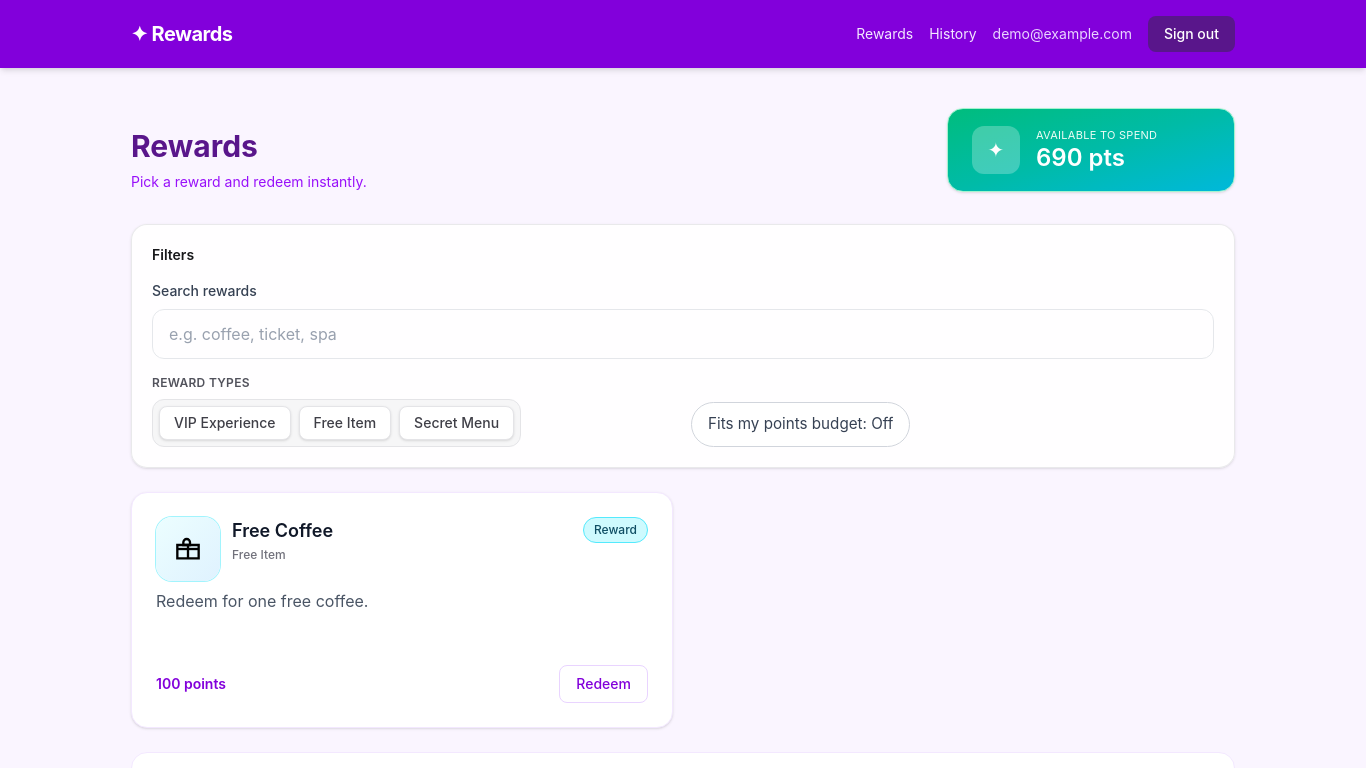
Test: RewardsPage › shows a confirmation modal and redeems after confirm
Expected: the heading "Free Coffee" is shown, top-left (232, 517), bottom-right (333, 545)
Click the button "Redeem": (604, 684) top-left (559, 665), bottom-right (648, 703)
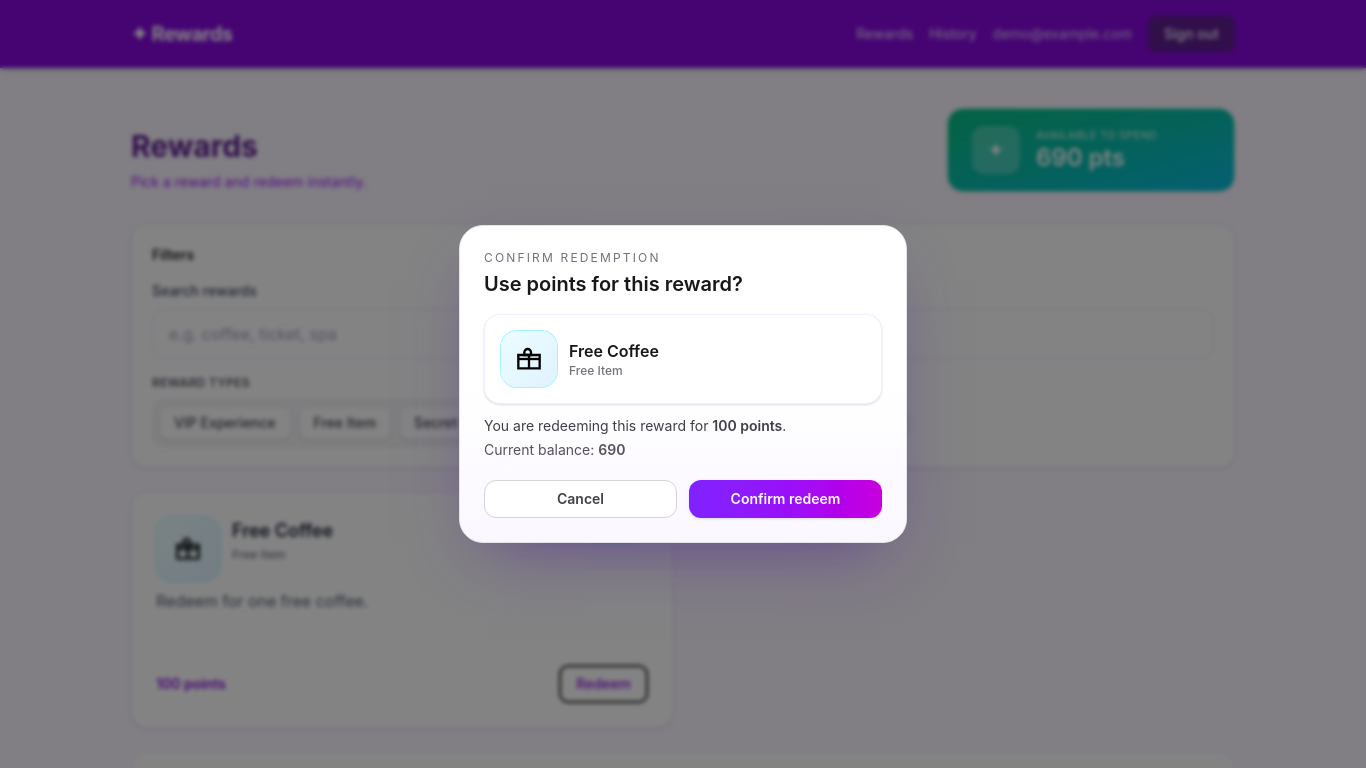
Result: the heading "Use points for this reward?" is shown at top-left (484, 272), bottom-right (743, 296)
Click the button "Confirm redeem": (786, 499) top-left (689, 480), bottom-right (882, 518)
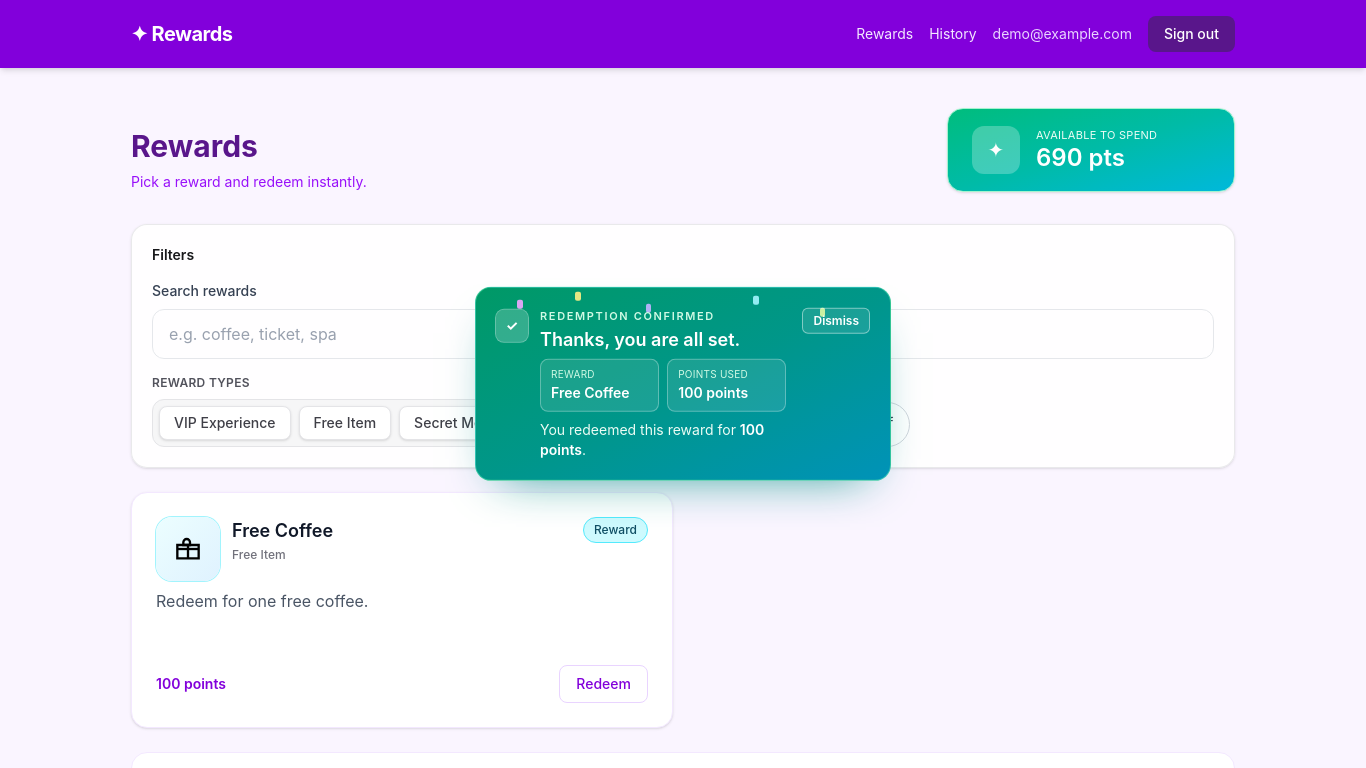
Result: the heading "Thanks, you are all set." is shown at top-left (540, 328), bottom-right (740, 349)
Result: the text "You redeemed this reward for 100 points." is shown at top-left (540, 420), bottom-right (786, 460)
